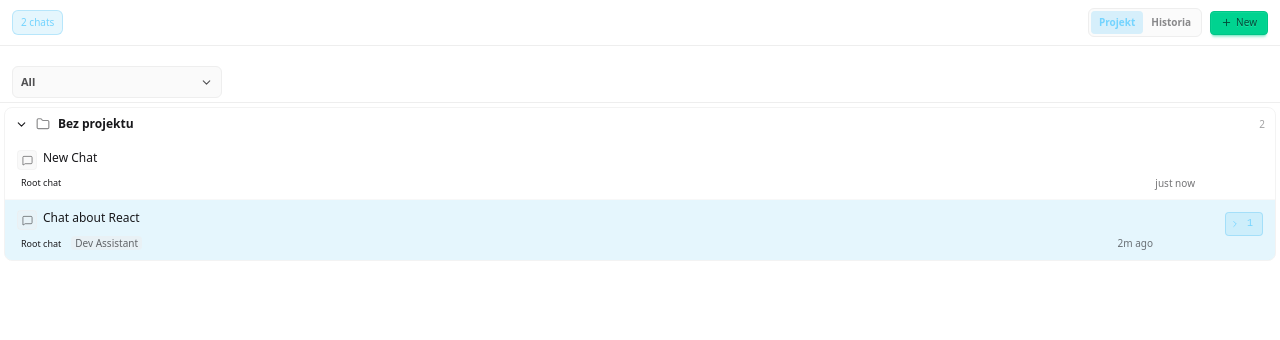
Test: SessionPanel › expands child conversations from a parent in the default conversation list
Expected: the text "Sub-agent: Landing page" is not shown
Step 1. Click the button with test id "toggle-session-children-s1" → (1244, 224), box [1225, 212, 1263, 236]
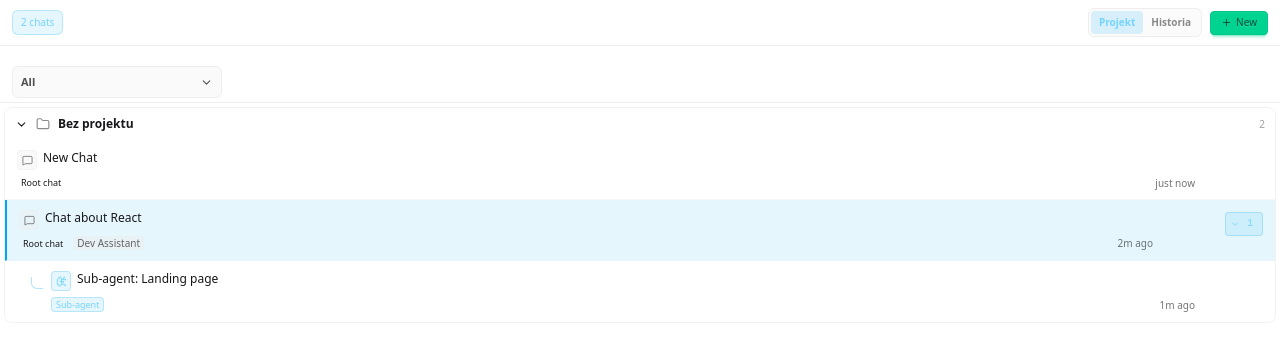
Now the text "Sub-agent: Landing page" is shown, box [77, 270, 218, 287]
Now the text "Sub-agent" is shown, box [51, 297, 104, 312]
